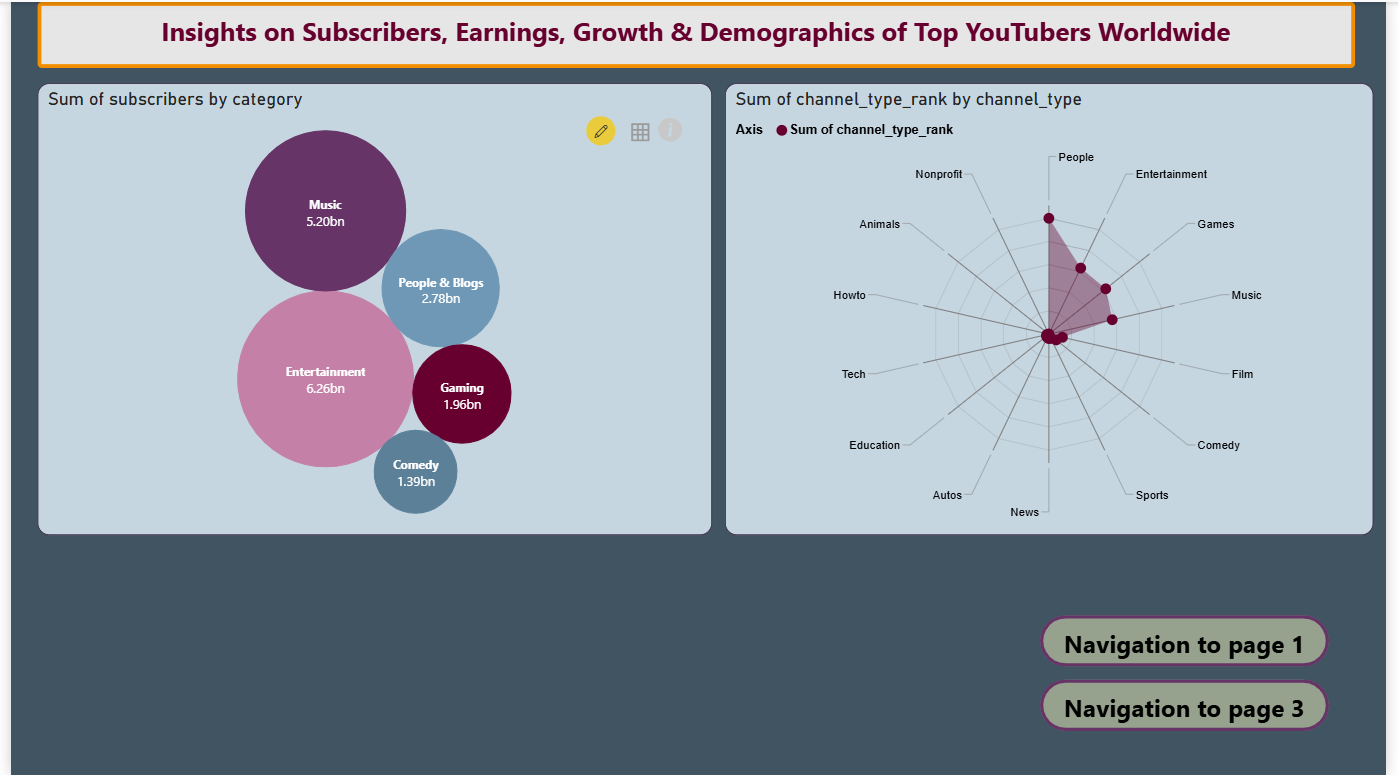

The page's visual inventory and layout, read from the dashboard file:
{"tool":"powerbi","page":{"name":"Page2","canvas":[1280,720],"ordinal":1},"visuals":[{"type":"textbox","box":[25,0,1226.3,61.6],"z":0},{"type":"RadarChart1446119667547","fields":{"Category":["Cleaned_Global_YouTube_Statistics.channel_type"],"Y":["Sum(Cleaned_Global_YouTube_Statistics.channel_type_rank)"]},"box":[665.1,75.1,603.6,420.6],"z":1000},{"type":"packedBubble563FBEFA65CC43A48496B6BB533D9890","fields":{"category":["Cleaned_Global_YouTube_Statistics.category"],"measure":["Sum(Cleaned_Global_YouTube_Statistics.subscribers)"]},"box":[24.6,75.1,628.2,420.6],"z":2000},{"type":"actionButton","box":[957.3,570.8,269,47.8],"z":3000},{"type":"actionButton","box":[957.3,630.9,269,47.8],"z":4000}]}

Visuals, with their boxes in screenshot pixels (x1, y1, x2, y2), scaled from the page's 1280x720 canvas onto the 1398x775 screenshot:
textbox: 27, 0, 1367, 66
RadarChart1446119667547 - Cleaned_Global_YouTube_Statistics.channel_type x Sum(Cleaned_Global_YouTube_Statistics.channel_type_rank): 726, 81, 1386, 534
packedBubble563FBEFA65CC43A48496B6BB533D9890 - Cleaned_Global_YouTube_Statistics.category x Sum(Cleaned_Global_YouTube_Statistics.subscribers): 27, 81, 713, 534
actionButton: 1046, 614, 1339, 666
actionButton: 1046, 679, 1339, 731
